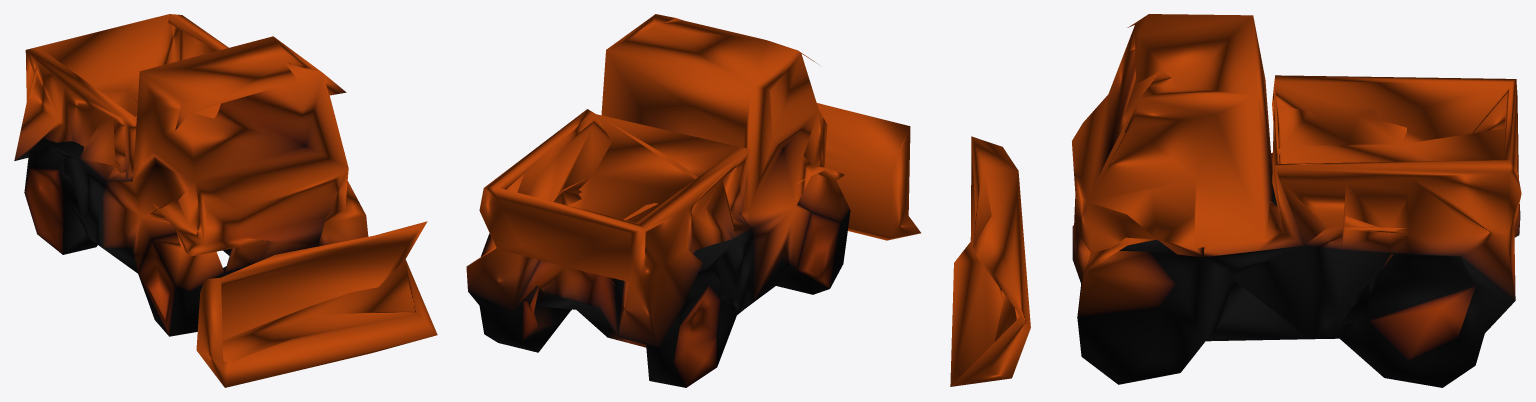
Rendered from gen3d-snowplow-lod1.glb.
3 renders of one model, left to right at view 1: azimuth 30°, elevation 25°; view 2: azimuth 150°, elevation 25°; view 3: azimuth 270°, elevation 25°, orthographic. The views are drawn at different scales.
Parts seen in each view (by area): view 1: part_0; view 2: part_0; view 3: part_0.
Boxes of the visible parts, bbox=[...] form: part_0: bbox=[14, 14, 437, 387]; part_0: bbox=[466, 14, 920, 387]; part_0: bbox=[950, 14, 1521, 387].
Bounding box in the file's own units: 0.9426 × 0.9992 × 1.78.
